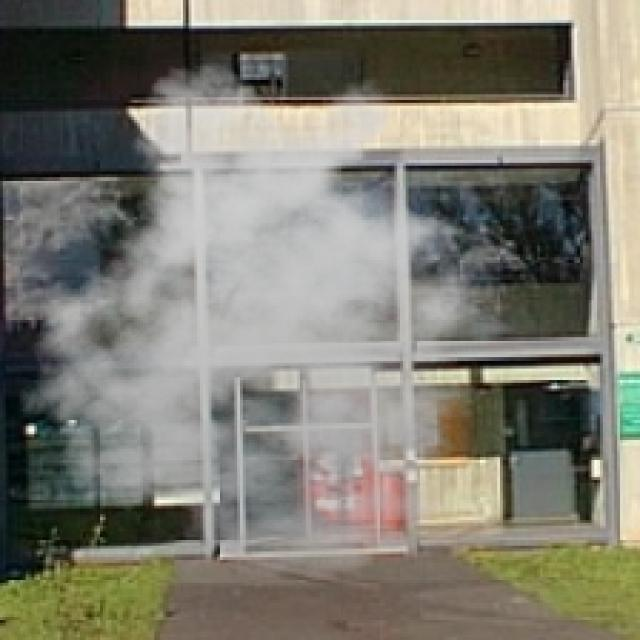Smoke: (6, 60, 534, 580)
